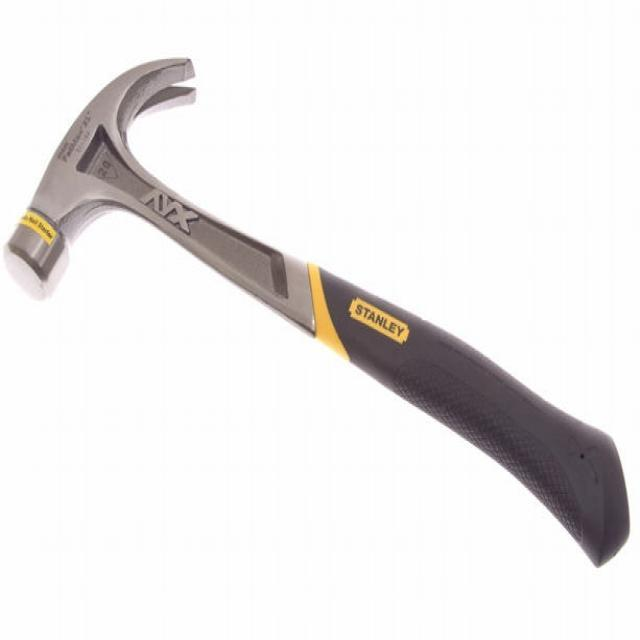hammer: (0, 48, 635, 575)
